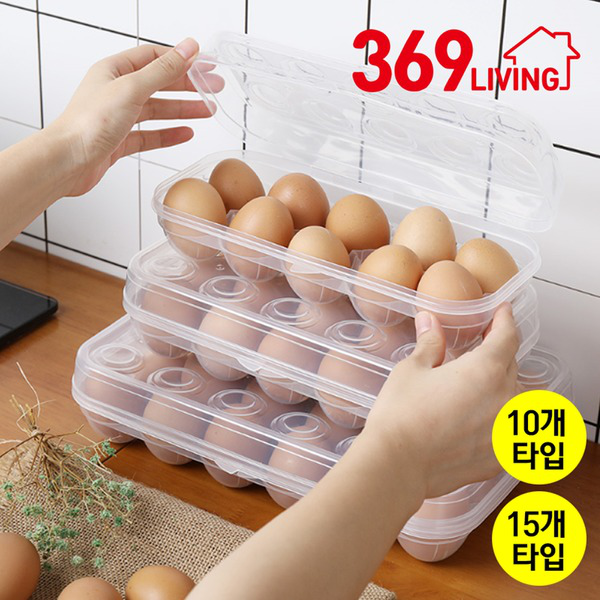egg: (162, 157, 524, 312)
